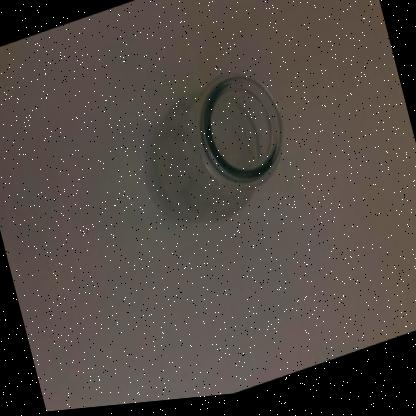Glass: (148, 80, 281, 226)
